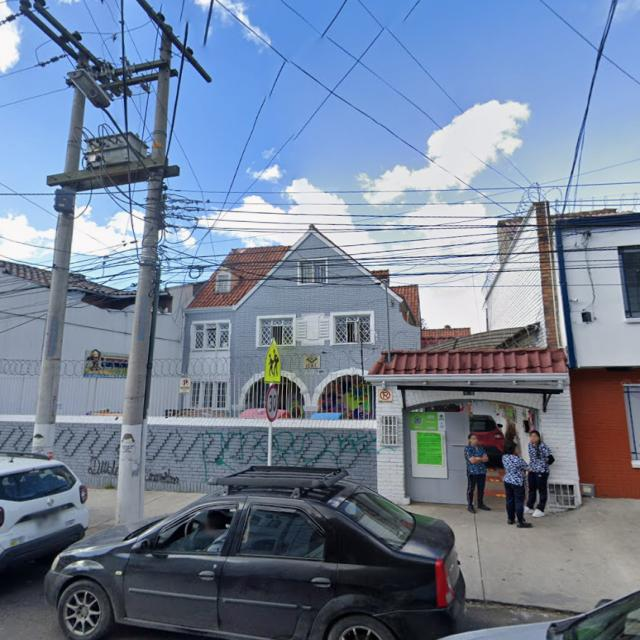fachada: (178, 227, 420, 419), (486, 202, 639, 498), (367, 328, 581, 508), (58, 273, 135, 414), (421, 327, 471, 349)
poste: (116, 170, 163, 523), (32, 194, 75, 457), (139, 263, 161, 511), (385, 282, 391, 362)
